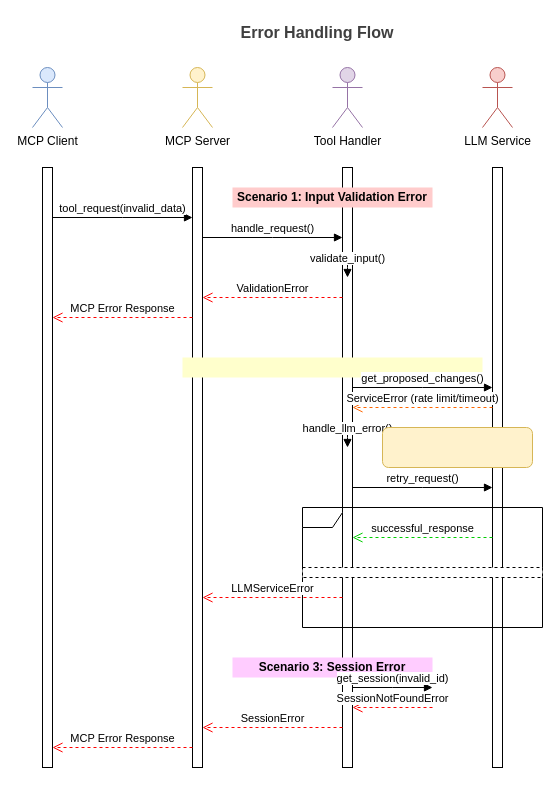
The diagram is 560 pixels wide and 785 high, and some of its shapes have lost their labels. Here are the shapes that lost their labels. From the top down, the centre of each, then its label:
the point at 332,367: Scenario 2: LLM Service Error with Retry Logic
the point at 457,447: Note: Implement retry logic with exponential backoff
the point at 422,567: alt
